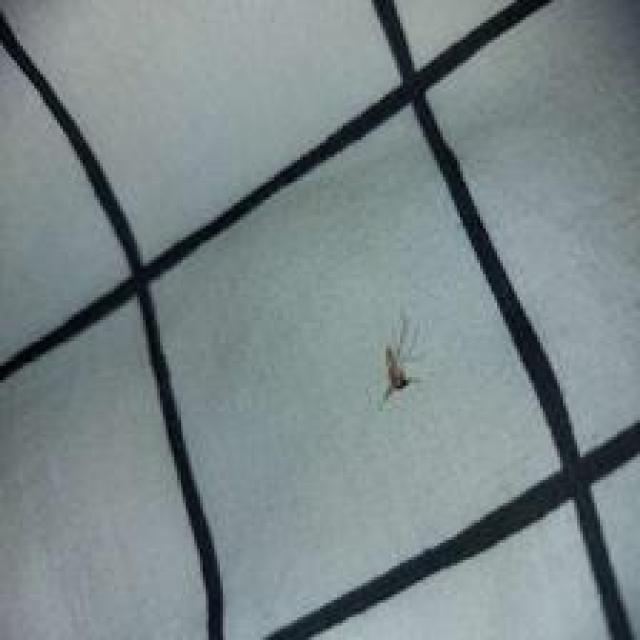Culex: (378, 310, 422, 404)
